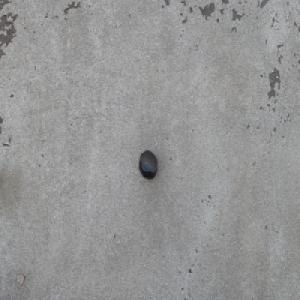FuelCap: (138, 149, 157, 180)
